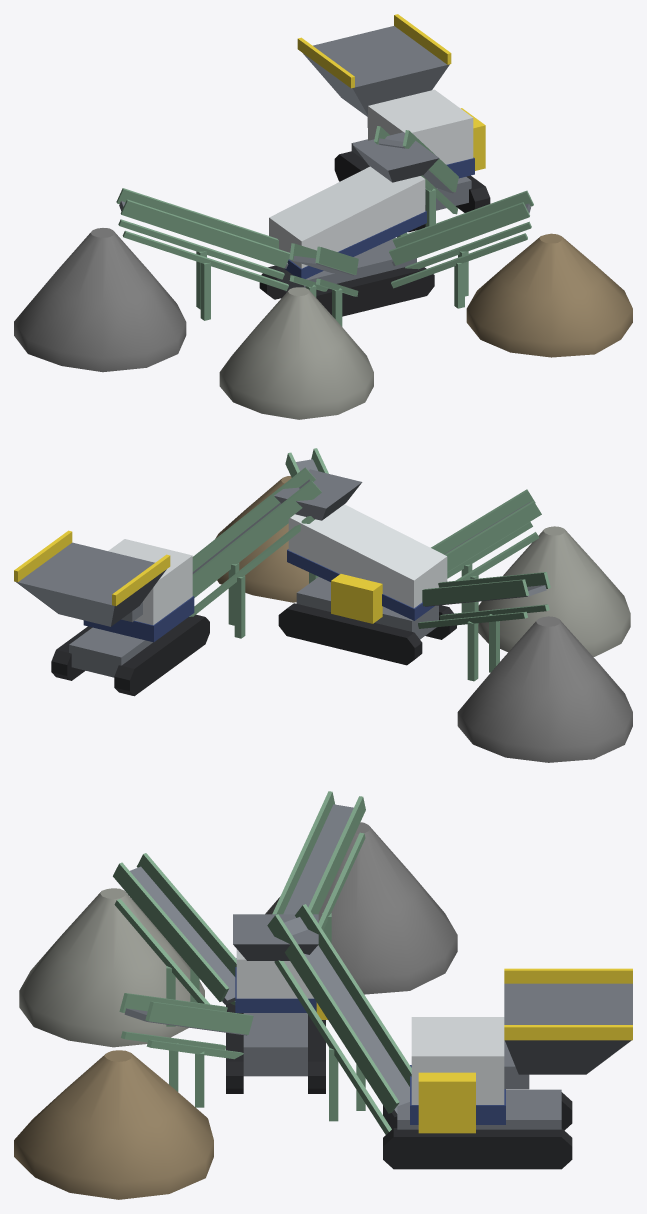
File: site_plant.fbx
The picture shows the model from 3 angles, top to bottom: view 1: azimuth 30°, elevation 25°; view 2: azimuth 150°, elevation 25°; view 3: azimuth 270°, elevation 25°; orthographic projection. The views are drawn at different scales.
Visible parts, largest first — view 1: a1089/0/site_plant; view 2: a1089/0/site_plant; view 3: a1089/0/site_plant.
Boxes of the visible parts, x1=… form: a1089/0/site_plant: x1=14, y1=14, x2=632, y2=419; a1089/0/site_plant: x1=14, y1=448, x2=632, y2=762; a1089/0/site_plant: x1=14, y1=791, x2=632, y2=1199.
Size of the model in its own units: 19.36 by 6.07 by 17.33.
